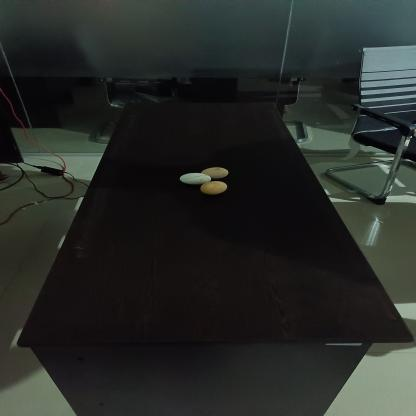egg: (180, 172, 214, 186), (200, 180, 228, 194), (204, 165, 228, 180)
